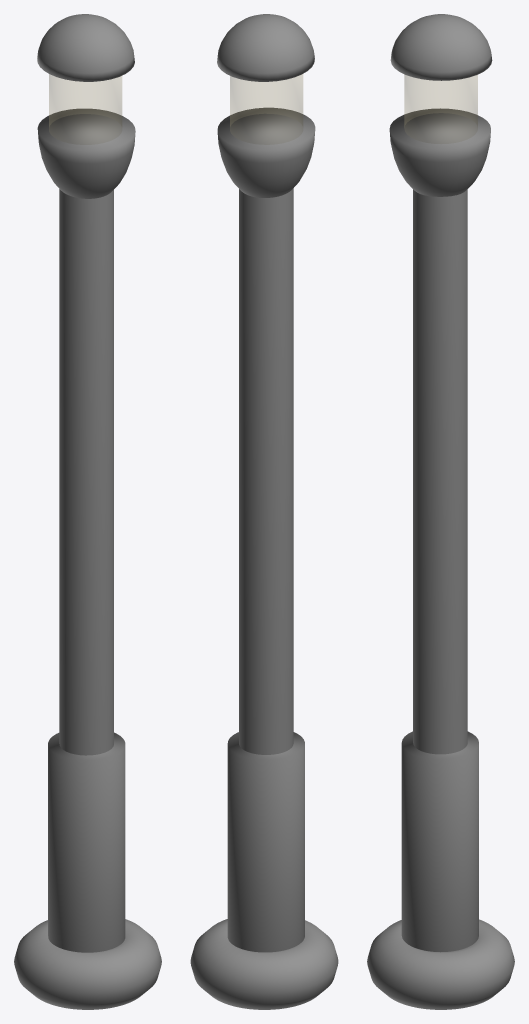
The model's file is lamppost.fbx.
The picture shows the model from 3 angles, left to right: view 1: azimuth 30°, elevation 25°; view 2: azimuth 150°, elevation 25°; view 3: azimuth 270°, elevation 25°; orthographic projection.
Visible parts, largest first — view 1: Cylinder.001, Cylinder, Torus, Sphere, Sphere.001, Cylinder.002; view 2: Cylinder.001, Cylinder, Torus, Sphere, Sphere.001, Cylinder.002; view 3: Cylinder.001, Cylinder, Torus, Sphere, Sphere.001, Cylinder.002.
Part boxes in pixels (x1=…): Cylinder.001: x1=59, y1=189, x2=113, y2=755; Cylinder: x1=48, y1=732, x2=125, y2=952; Torus: x1=14, y1=919, x2=161, y2=1009; Sphere: x1=37, y1=108, x2=135, y2=198; Sphere.001: x1=37, y1=14, x2=134, y2=81; Cylinder.002: x1=49, y1=74, x2=121, y2=144; Cylinder.001: x1=239, y1=188, x2=293, y2=754; Cylinder: x1=227, y1=732, x2=304, y2=952; Torus: x1=190, y1=919, x2=338, y2=1009; Sphere: x1=217, y1=107, x2=315, y2=197; Sphere.001: x1=217, y1=14, x2=314, y2=81; Cylinder.002: x1=230, y1=74, x2=302, y2=144; Cylinder.001: x1=413, y1=189, x2=467, y2=754; Cylinder: x1=401, y1=731, x2=478, y2=952; Torus: x1=367, y1=919, x2=514, y2=1009; Sphere: x1=389, y1=108, x2=490, y2=196; Sphere.001: x1=390, y1=14, x2=492, y2=80; Cylinder.002: x1=404, y1=75, x2=477, y2=143.
Bounding box in the file's own units: 29.04 × 210 × 29.04.
